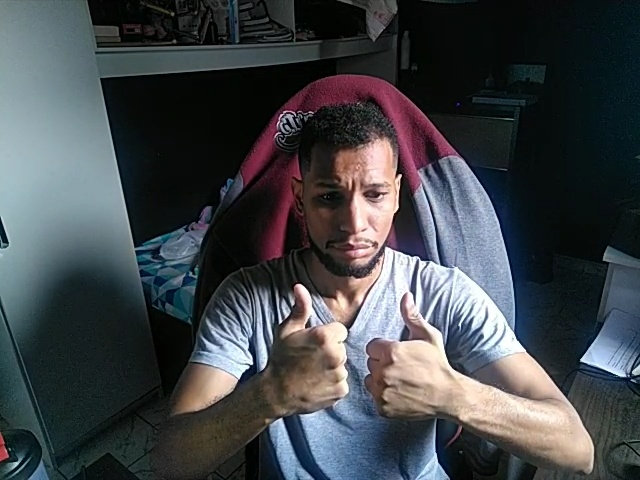sim: (261, 282, 351, 419), (363, 287, 452, 420)
